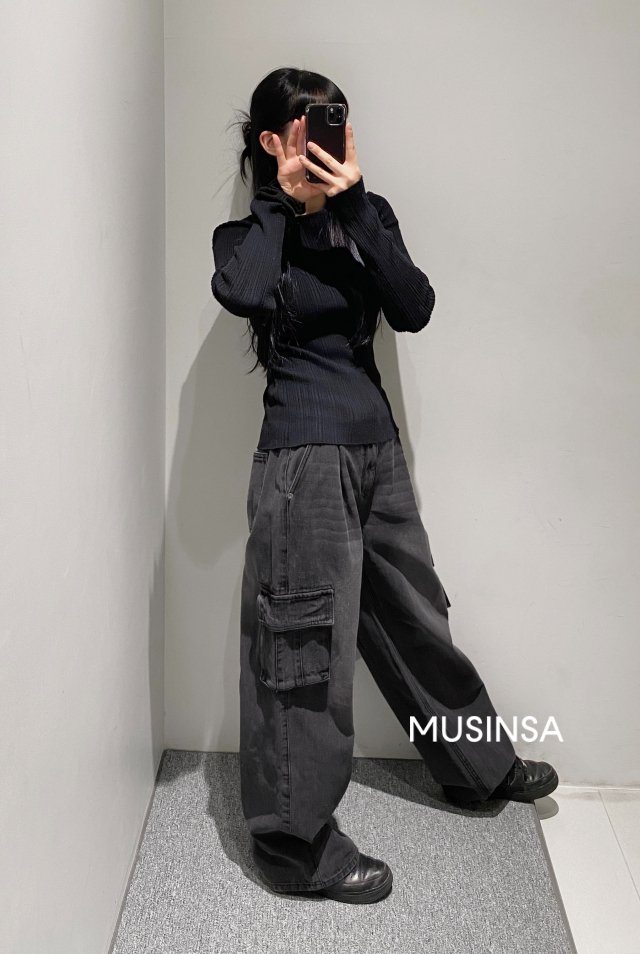Jeans: (234, 439, 525, 857)
Shoes: (308, 750, 564, 903)
Top: (208, 192, 438, 445)
